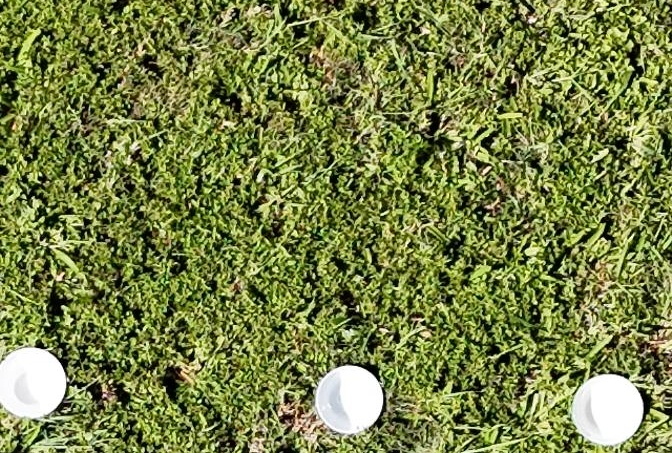bowl: (570, 374, 647, 448), (312, 364, 385, 435), (0, 346, 67, 421)
